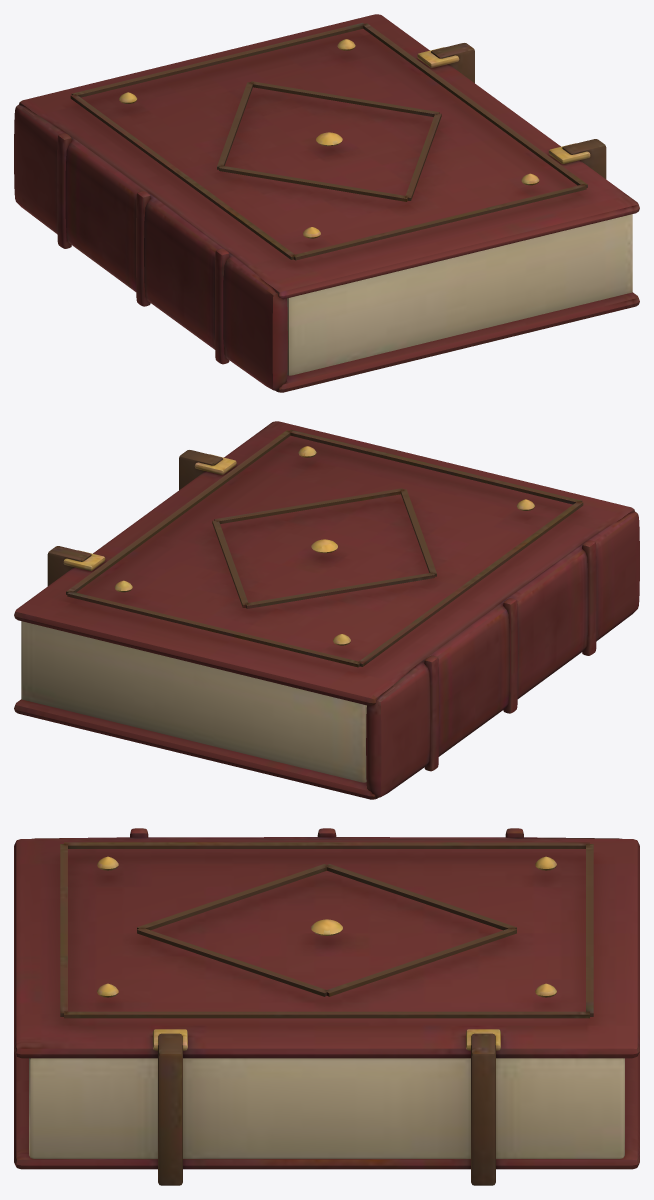
Rendered from oribasius.glb.
3 renders of one model, top to bottom at view 1: azimuth 30°, elevation 25°; view 2: azimuth 150°, elevation 25°; view 3: azimuth 270°, elevation 25°, orthographic. The views are drawn at different scales.
Visible parts, largest first — view 1: oribasius; view 2: oribasius; view 3: oribasius.
Part boxes in pixels (x1,y1,x2,y2): oribasius: (14, 14, 639, 392); oribasius: (14, 421, 639, 799); oribasius: (14, 828, 639, 1185).
Bounding box in the file's own units: 0.219 × 0.0664 × 0.25.
Materials: 1 (1 with a texture image).
